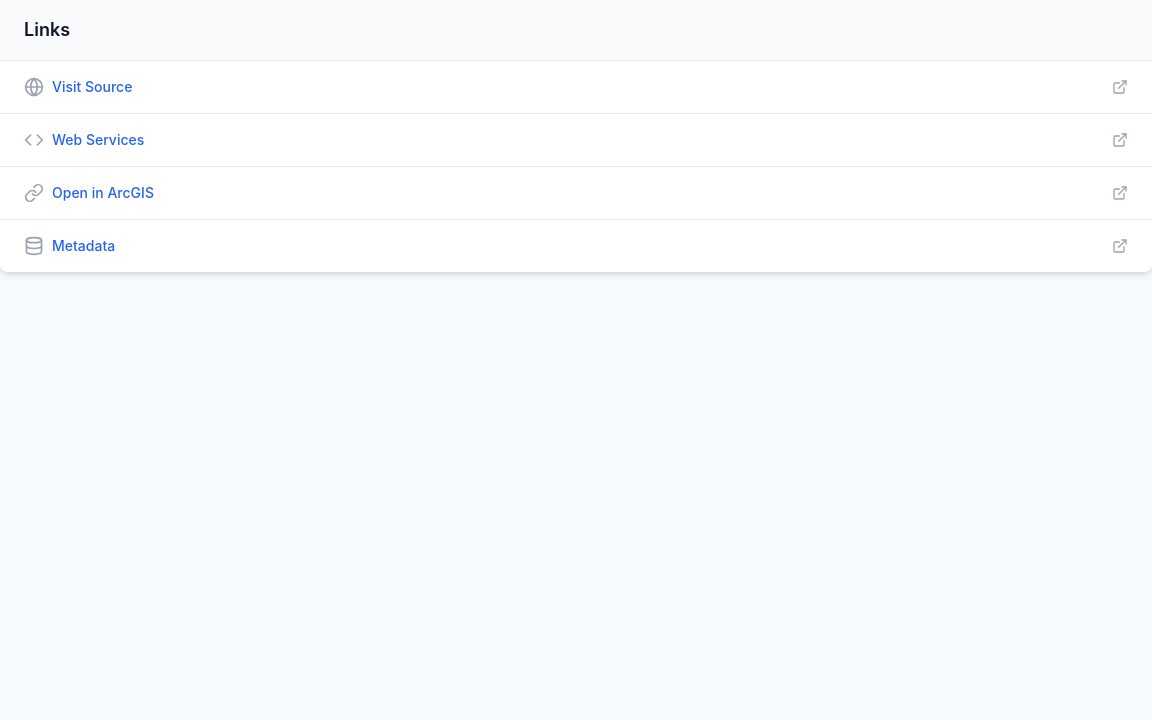
Test: LinksTable › opens lightbox for Web Services category
Click the button "Web Services" at (98, 140), box [24,130,1128,150]
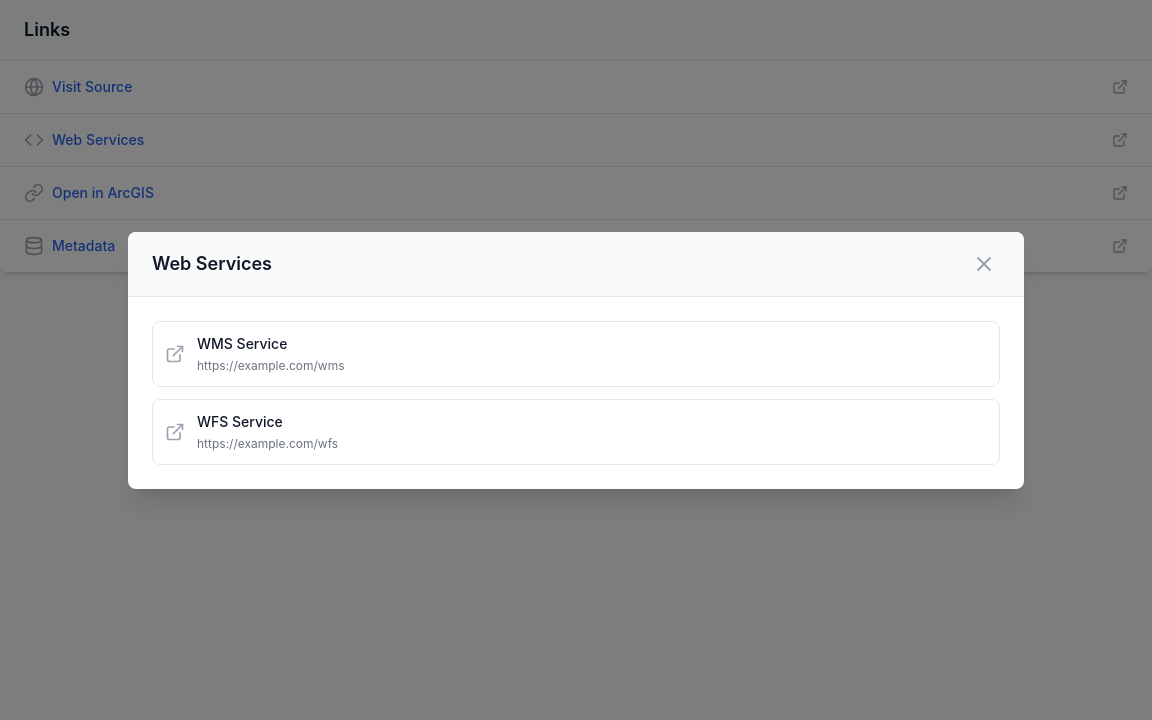
Expected: the text "WMS Service" is shown, [197,334,287,352]
Expected: the text "WFS Service" is shown, [197,412,283,430]
